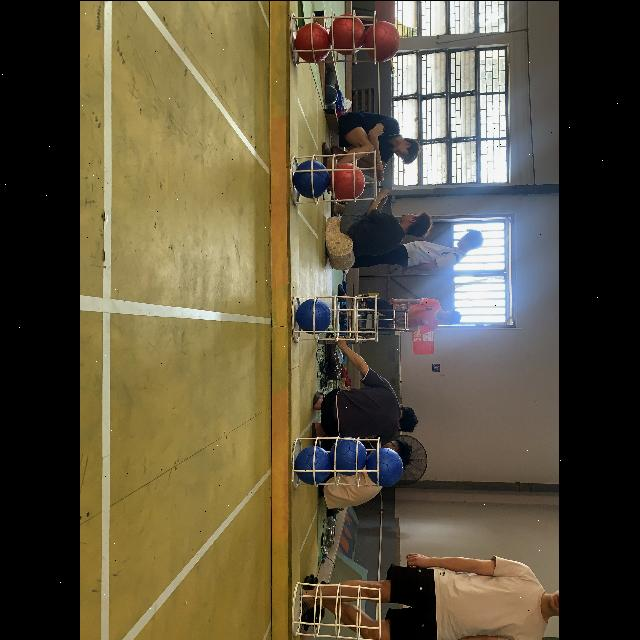B: (367, 446, 403, 486), (332, 436, 368, 476), (296, 444, 332, 484), (295, 23, 331, 61), (295, 298, 331, 334), (295, 159, 329, 197)
R: (330, 13, 366, 53), (330, 162, 366, 200), (367, 20, 401, 60)
